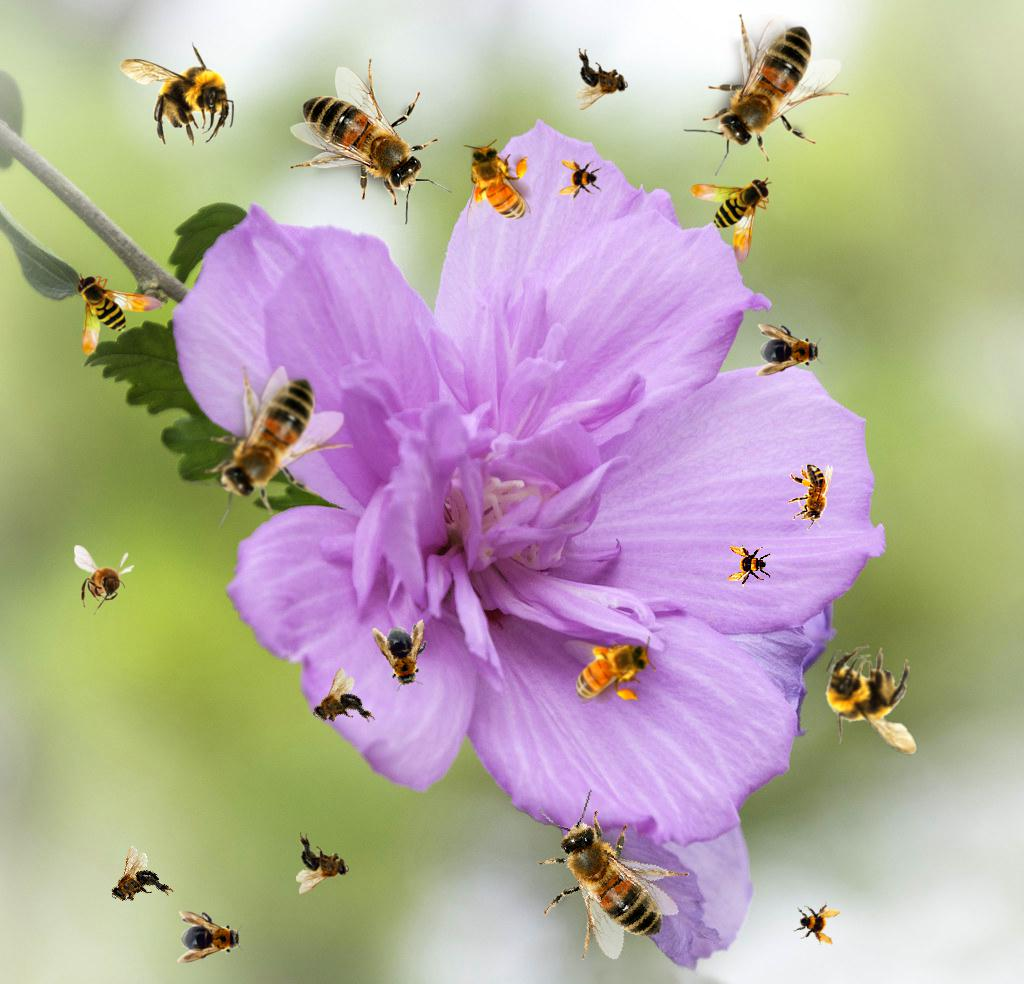Bee: (503, 777, 704, 981), (290, 58, 452, 225), (683, 14, 850, 176), (186, 366, 353, 528), (801, 630, 950, 775), (119, 40, 234, 147), (690, 177, 772, 265), (75, 273, 163, 355), (96, 843, 177, 925), (300, 665, 379, 747), (563, 636, 656, 704), (463, 139, 531, 232), (371, 617, 437, 695), (74, 545, 135, 615), (177, 911, 245, 963), (756, 324, 824, 376), (296, 832, 349, 894), (575, 48, 628, 110), (788, 464, 833, 530), (791, 896, 843, 948), (558, 158, 602, 202), (727, 544, 771, 588)
